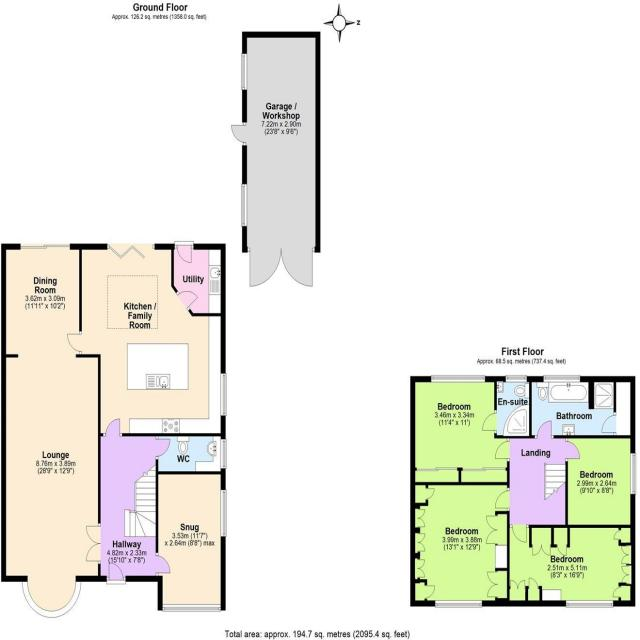DOOR: (176, 290, 199, 310), (108, 561, 125, 582), (66, 332, 83, 353), (481, 411, 498, 432), (564, 439, 581, 460), (154, 438, 171, 458), (230, 124, 247, 144), (536, 419, 553, 439), (600, 414, 617, 434), (176, 243, 192, 264), (105, 417, 121, 438), (494, 489, 510, 510), (511, 523, 527, 544), (155, 554, 171, 574), (494, 440, 510, 459)
ROOM: (0, 243, 102, 619), (66, 243, 229, 438), (409, 481, 510, 608), (410, 374, 510, 486), (506, 523, 636, 607), (155, 470, 227, 611), (565, 434, 636, 530)
WINDOW: (21, 574, 83, 620), (430, 374, 485, 383), (434, 599, 483, 609), (162, 604, 221, 612), (565, 600, 614, 609), (240, 182, 248, 227), (543, 374, 581, 383), (220, 372, 227, 417), (240, 52, 248, 91), (630, 452, 637, 495), (220, 490, 226, 537), (220, 439, 227, 469), (505, 375, 527, 383)
